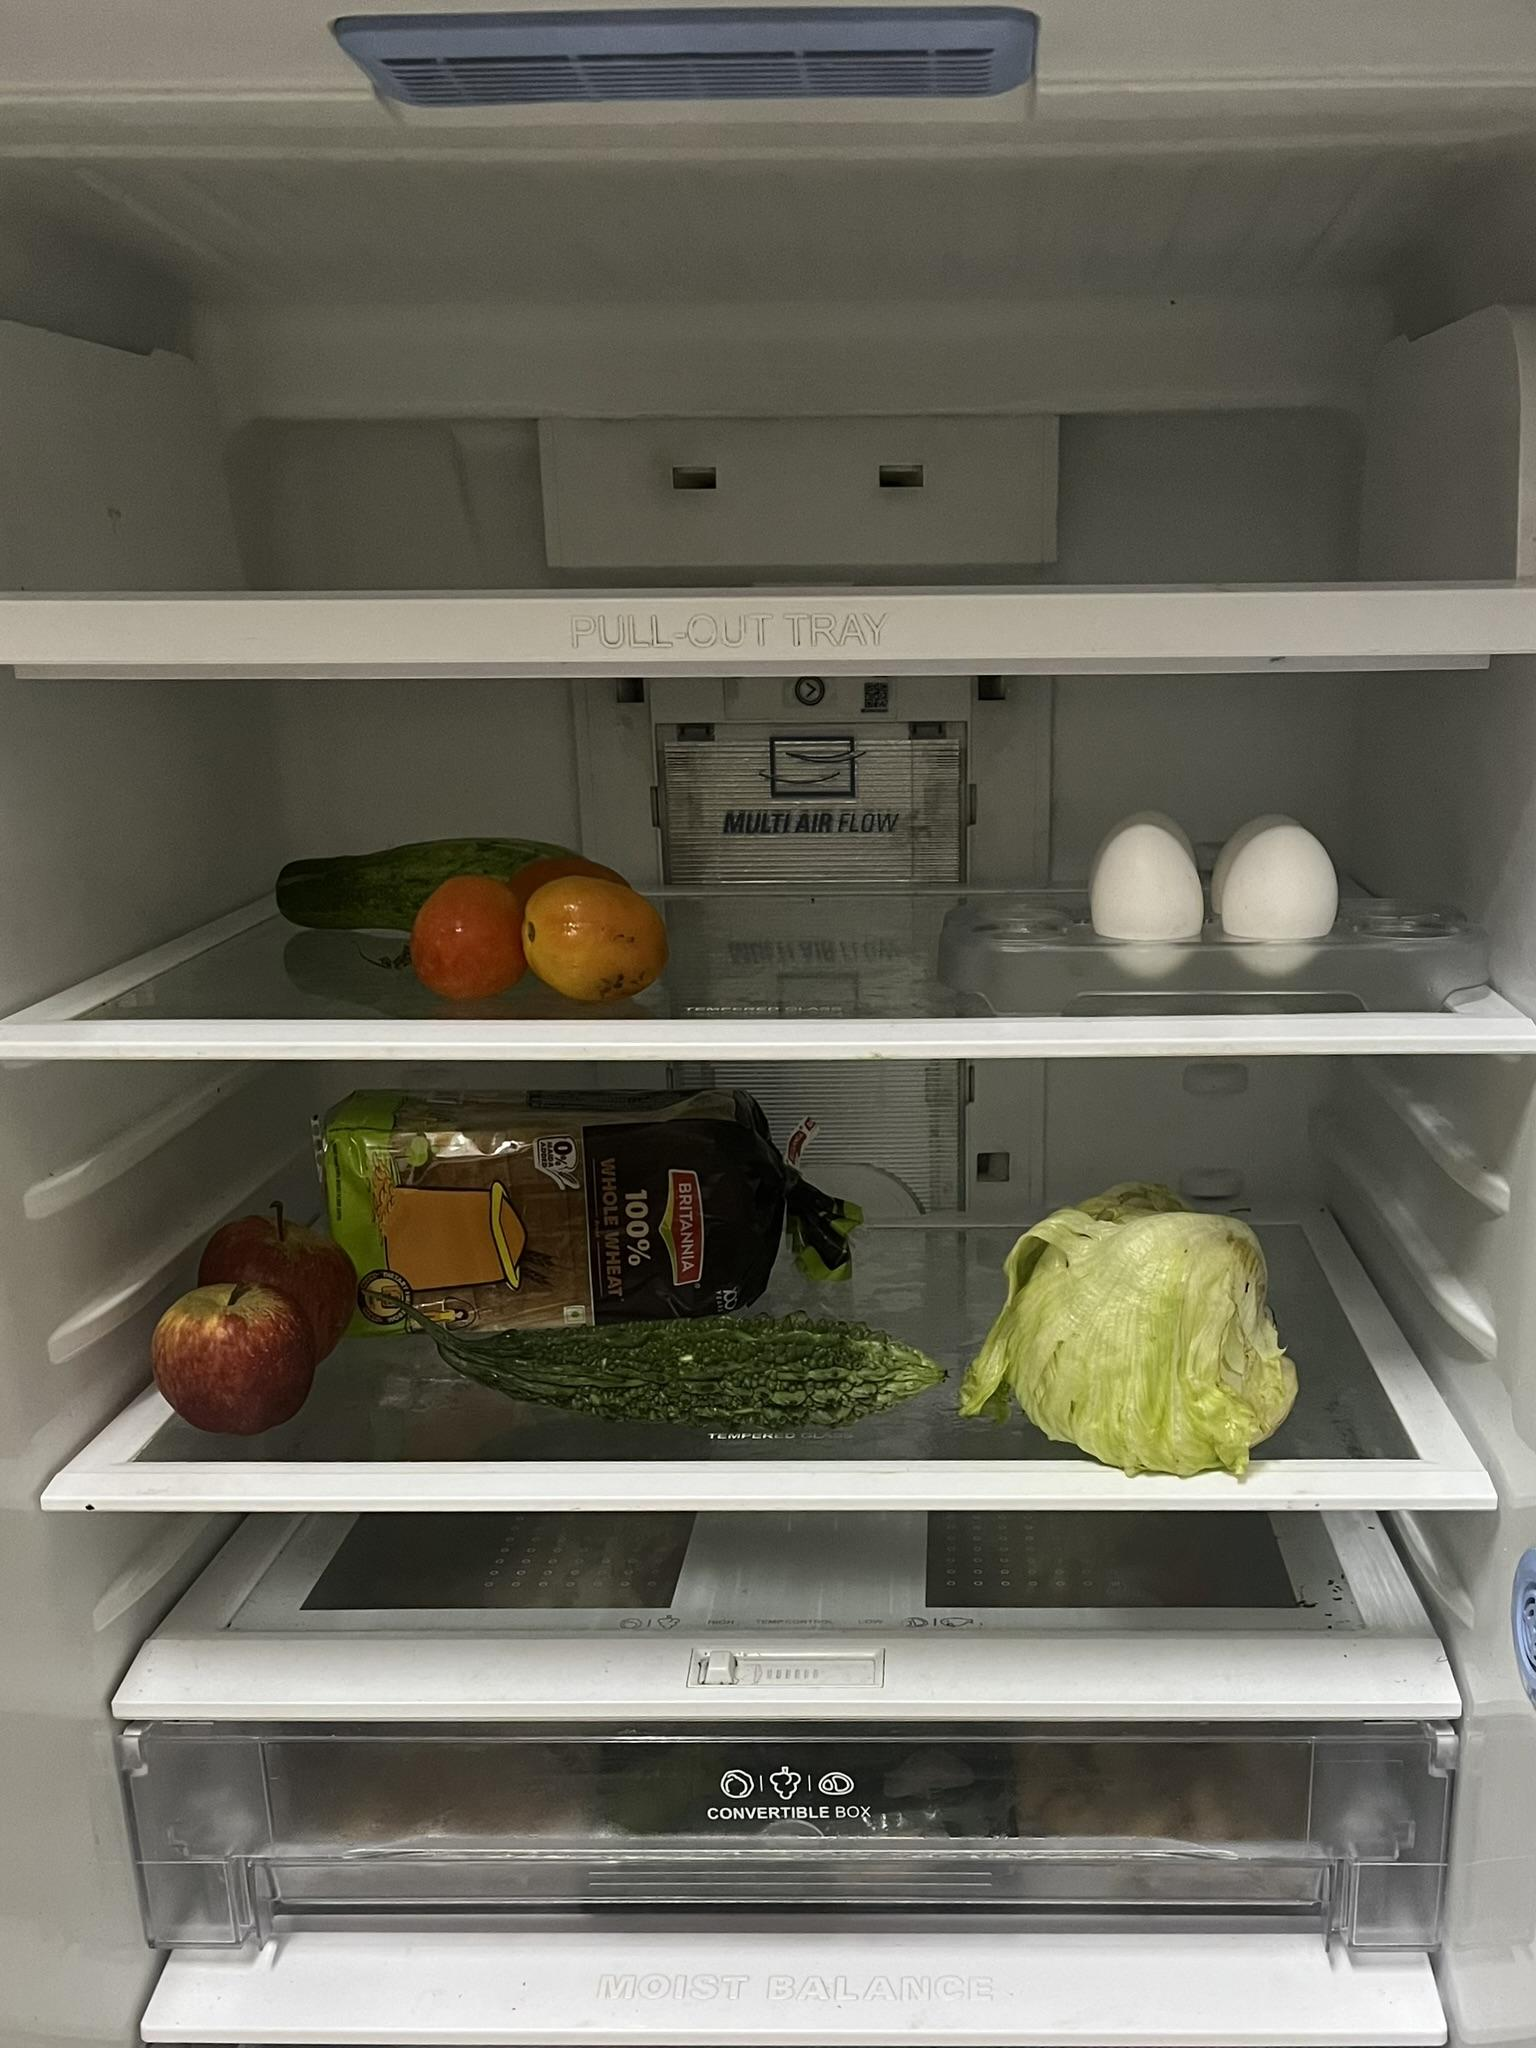apple: (160, 1203, 357, 1434)
bitter gaurd: (416, 1316, 954, 1437)
bread: (313, 1087, 847, 1306)
cucumber: (281, 837, 620, 906)
egg: (1091, 816, 1344, 980)
lettuce: (983, 1187, 1294, 1487)
tomato: (410, 871, 673, 1009)
